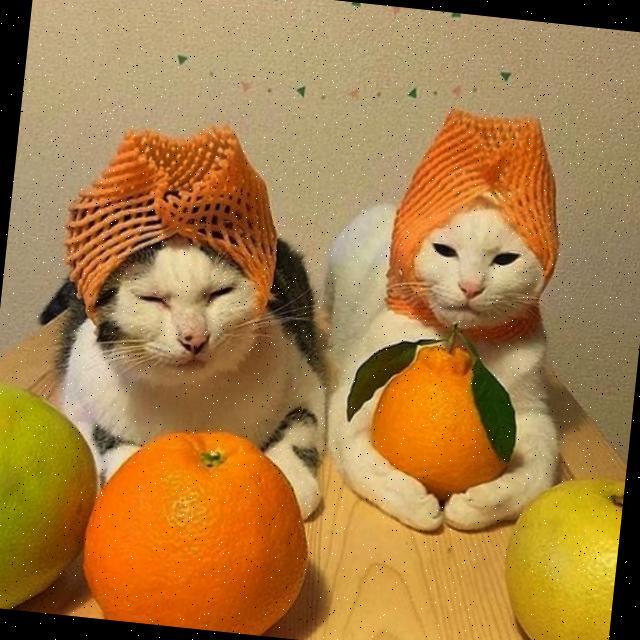cat: (62, 162, 368, 518), (322, 153, 590, 546)
